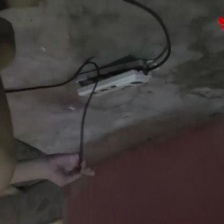three_eye_plug: (72, 54, 163, 101)
